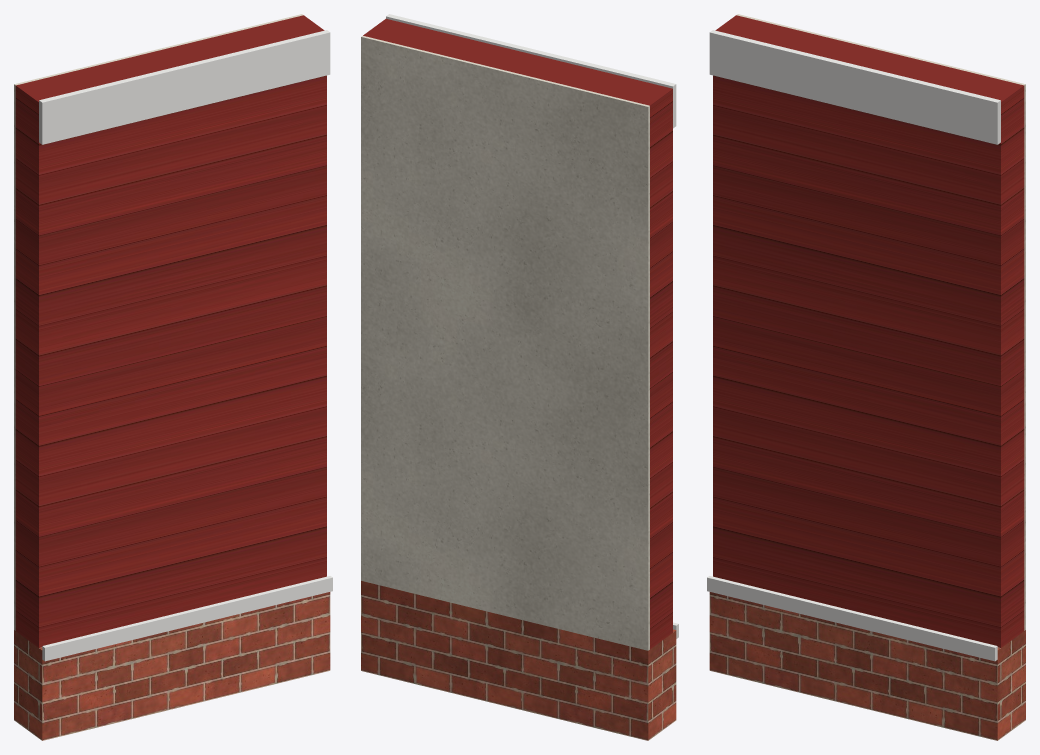
The model's file is school_wall_plain.glb.
3 views of the same model, side by side, from view 1: azimuth 30°, elevation 25°; view 2: azimuth 150°, elevation 25°; view 3: azimuth 330°, elevation 25° (orthographic).
Parts seen in each view (by area): view 1: school_wall_plain_siding, school_wall_plain_brick, school_wall_plain_trim, school_wall_plain_plaster; view 2: school_wall_plain_plaster, school_wall_plain_brick, school_wall_plain_siding, school_wall_plain_trim; view 3: school_wall_plain_siding, school_wall_plain_brick, school_wall_plain_trim, school_wall_plain_plaster.
Boxes of the visible parts, x1=… form: school_wall_plain_siding: x1=15, y1=15, x2=326, y2=647; school_wall_plain_brick: x1=14, y1=592, x2=330, y2=740; school_wall_plain_trim: x1=39, y1=30, x2=332, y2=661; school_wall_plain_plaster: x1=14, y1=14, x2=303, y2=630; school_wall_plain_plaster: x1=361, y1=36, x2=649, y2=650; school_wall_plain_brick: x1=361, y1=581, x2=676, y2=740; school_wall_plain_siding: x1=363, y1=18, x2=672, y2=649; school_wall_plain_trim: x1=386, y1=14, x2=678, y2=638; school_wall_plain_siding: x1=713, y1=15, x2=1024, y2=647; school_wall_plain_brick: x1=709, y1=592, x2=1025, y2=740; school_wall_plain_trim: x1=707, y1=30, x2=1000, y2=661; school_wall_plain_plaster: x1=736, y1=14, x2=1025, y2=630.
Size of the model in its own units: 2 by 4.24 by 0.37.
4 materials, 3 textured.
